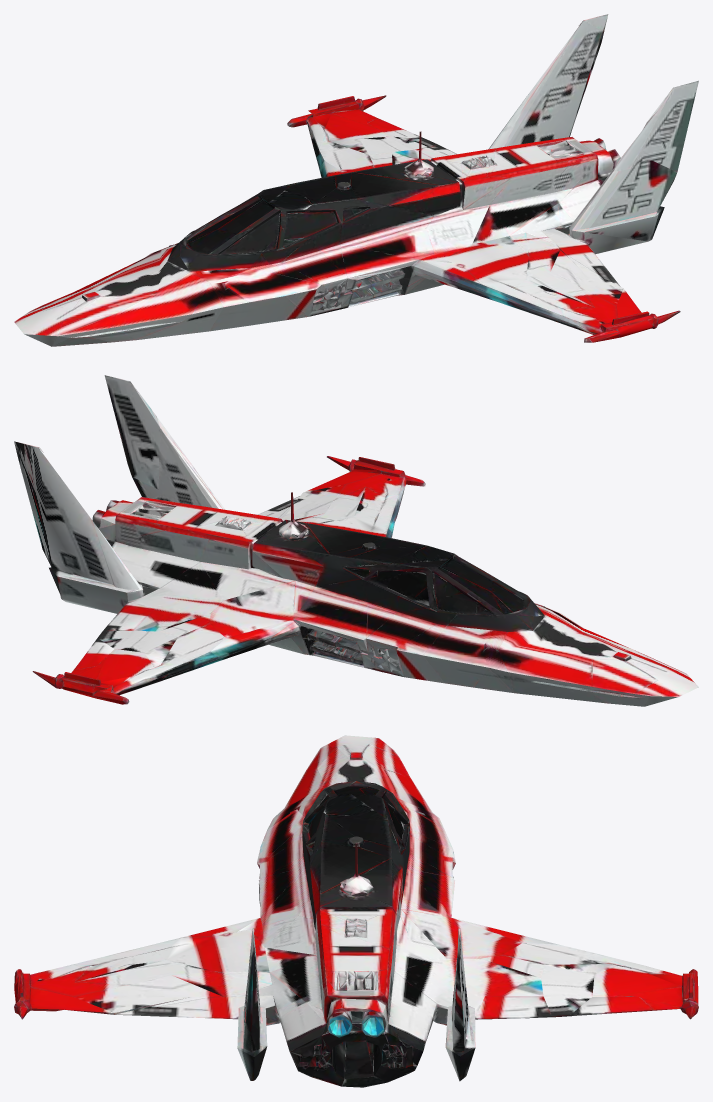
Rendered from shuttle.glb.
3 renders of one model, top to bottom at view 1: azimuth 30°, elevation 25°; view 2: azimuth 150°, elevation 25°; view 3: azimuth 270°, elevation 25°, orthographic. The views are drawn at different scales.
Size of the model in its own units: 1.9 by 0.485 by 1.56.
Materials: 1 (1 with a texture image).
